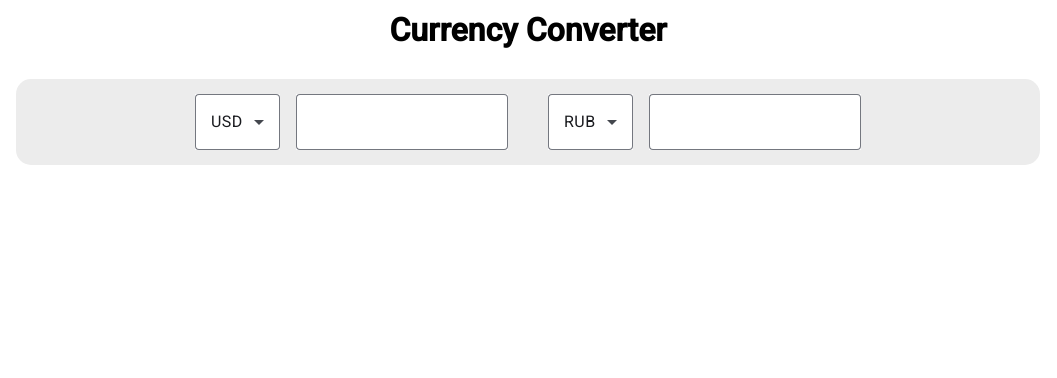
Test case: Currency Form › should change the toCurrency to EUR
Click the dropdown labelled "RUB" at [591, 122], box [564, 110, 617, 134]
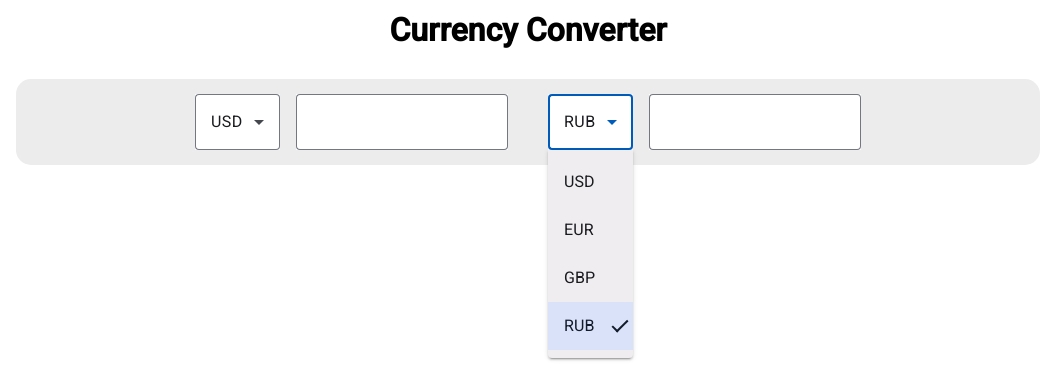
Click the text "EUR" at [579, 230], box [564, 220, 594, 240]
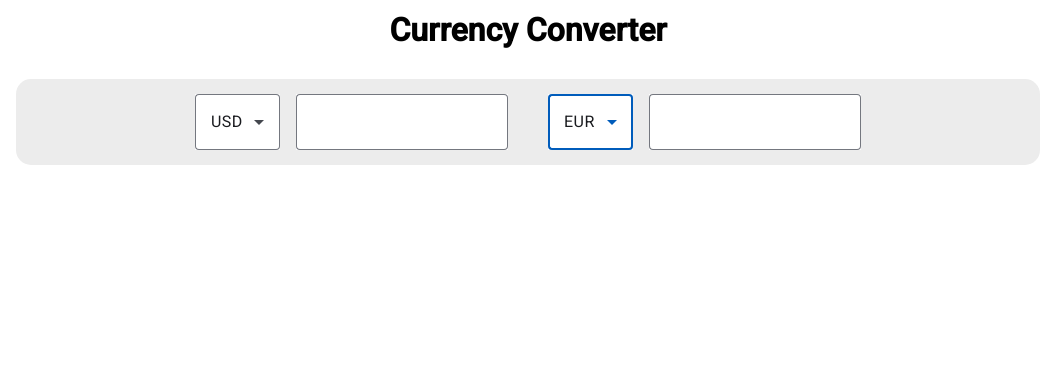
Now the dropdown labelled "EUR" is shown, box [564, 110, 617, 134]
